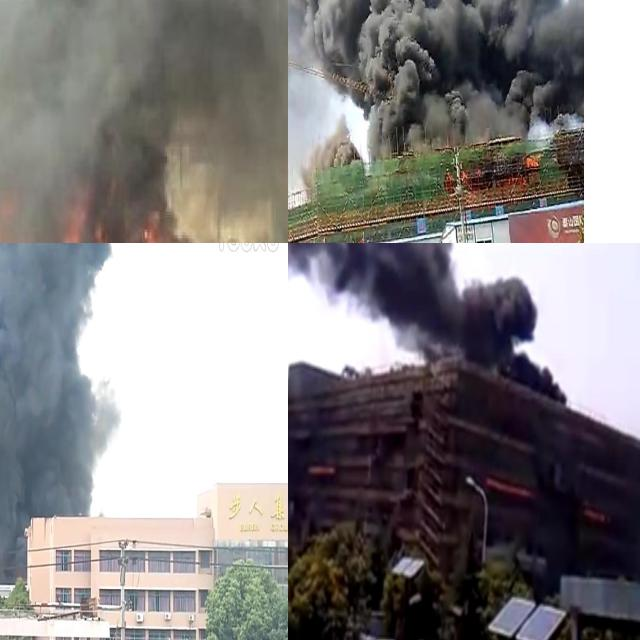fire: (0, 212, 215, 243), (523, 153, 539, 170)
smoke: (0, 0, 288, 243), (288, 0, 582, 156), (288, 243, 563, 401), (0, 243, 122, 573)
